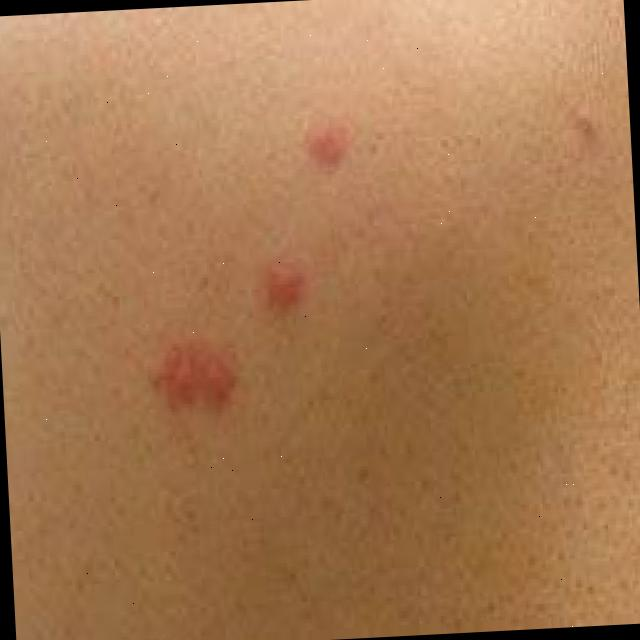kan emici bocekler: (155, 346, 234, 414), (308, 125, 355, 175), (274, 256, 312, 307)
